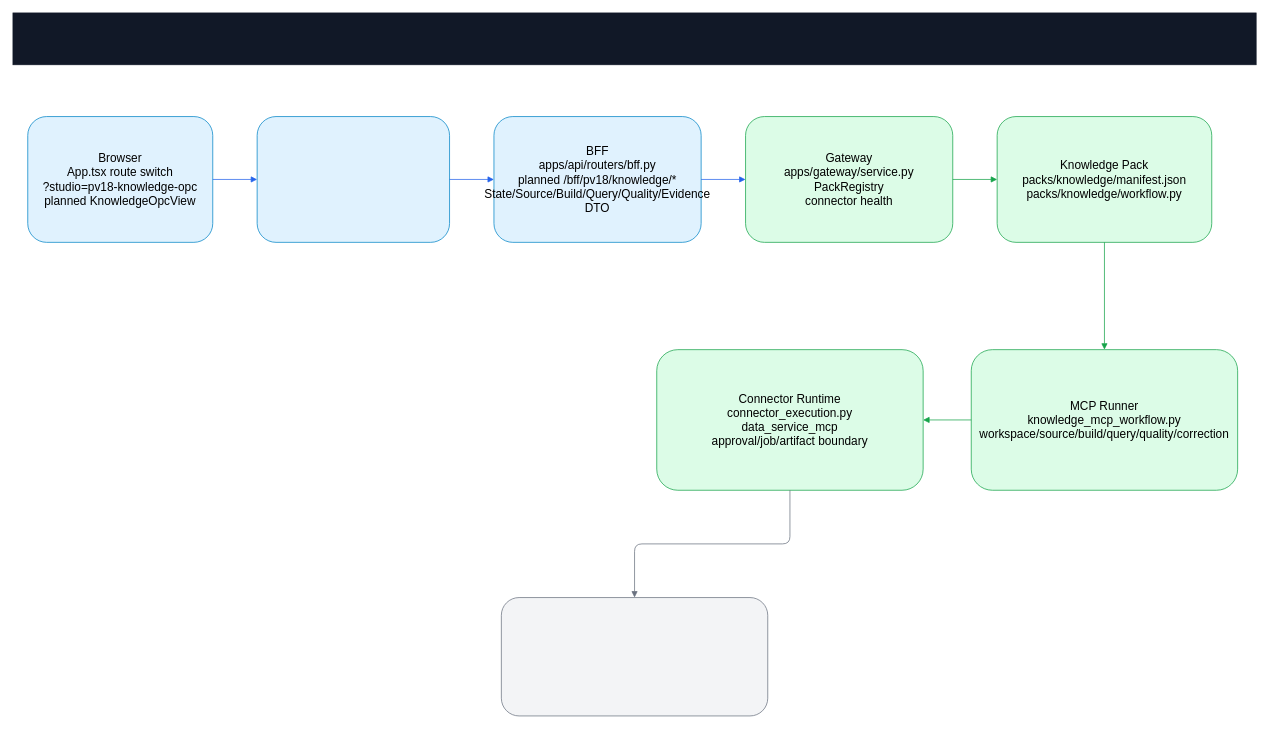
The diagram is 1269 pixels wide and 729 high, and some of its shapes have lost their labels. The shapes that lost their labels are listed below. From the top down, each one's centre as x and y in pixels, then its label:
At (x=634, y=38): "具体代码实现实体与交互关系".
At (x=353, y=179): "Client WorkflowConsoleClient.ts planned Knowledge DTO methods".
At (x=634, y=656): "Evidence artifacts.py traces.py PV18 evidence package / runner".
